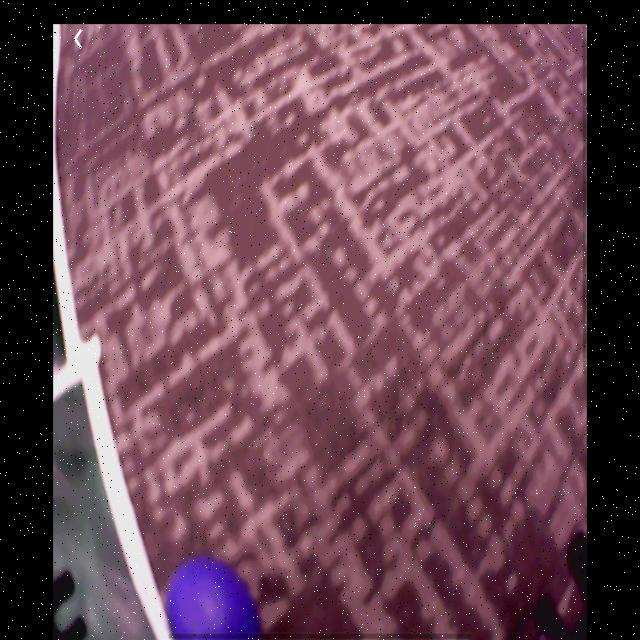ball: (161, 557, 263, 640)
